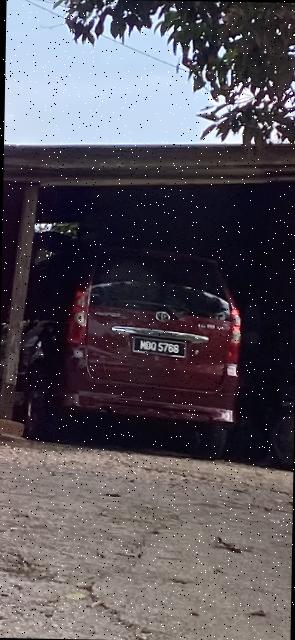License_Plate: (132, 335, 187, 359)
car: (23, 237, 244, 461)
